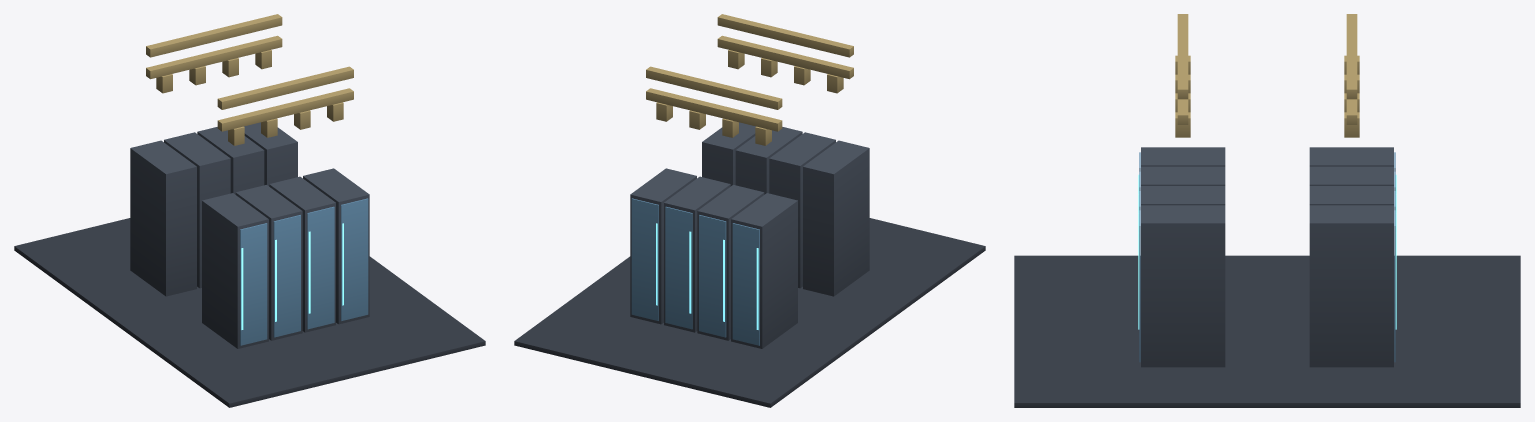
Rendered from dgx-h200.glb.
3 views of the same model, side by side, from view 1: azimuth 30°, elevation 25°; view 2: azimuth 150°, elevation 25°; view 3: azimuth 270°, elevation 25° (orthographic). The views are drawn at different scales.
Parts seen in each view (by area): view 1: floor, rack-B1, rack-A1, rack-A1-door, rack-A3-door, rack-A4-door, rack-A2-door, rack-B2, rack-A3, rack-A2, rack-A4, rack-B3 (+5 smaller); view 2: floor, rack-A1, rack-B1, rack-B1-door, rack-B3-door, rack-B4-door, rack-B2-door, rack-A2, rack-B3, rack-B2, rack-B4, rack-A3 (+5 smaller); view 3: floor, rack-A4, rack-B4, rack-A1, rack-B1, rack-A2, rack-A3, rack-B2, rack-B3, busway-A2, busway-B2.
Part boxes in pixels (left/top/right/bottom): floor: left=14, top=218, right=485, bottom=407; rack-B1: left=130, top=140, right=196, bottom=296; rack-A1: left=202, top=193, right=268, bottom=348; rack-A1-door: left=240, top=223, right=267, bottom=345; rack-A3-door: left=307, top=206, right=334, bottom=329; rack-A4-door: left=341, top=198, right=368, bottom=320; rack-A2-door: left=273, top=215, right=300, bottom=337; rack-B2: left=164, top=132, right=230, bottom=288; rack-A3: left=269, top=176, right=335, bottom=332; rack-A2: left=235, top=185, right=302, bottom=340; rack-A4: left=303, top=168, right=369, bottom=324; rack-B3: left=197, top=127, right=264, bottom=194; floor: left=514, top=218, right=985, bottom=407; rack-A1: left=803, top=140, right=869, bottom=296; rack-B1: left=731, top=193, right=797, bottom=348; rack-B1-door: left=732, top=223, right=759, bottom=345; rack-B3-door: left=665, top=206, right=692, bottom=329; rack-B4-door: left=631, top=198, right=658, bottom=320; rack-B2-door: left=699, top=215, right=726, bottom=337; rack-A2: left=769, top=132, right=835, bottom=288; rack-B3: left=664, top=176, right=730, bottom=332; rack-B2: left=697, top=185, right=764, bottom=340; rack-B4: left=630, top=168, right=696, bottom=324; rack-A3: left=735, top=127, right=802, bottom=194; floor: left=1014, top=255, right=1520, bottom=407; rack-A4: left=1141, top=205, right=1225, bottom=367; rack-B4: left=1309, top=205, right=1393, bottom=367; rack-A1: left=1141, top=147, right=1225, bottom=166; rack-B1: left=1309, top=147, right=1393, bottom=166; rack-A2: left=1141, top=166, right=1225, bottom=185; rack-A3: left=1141, top=186, right=1225, bottom=205; rack-B2: left=1309, top=166, right=1393, bottom=185; rack-B3: left=1309, top=186, right=1393, bottom=205; busway-A2: left=1177, top=14, right=1188, bottom=99; busway-B2: left=1346, top=14, right=1357, bottom=99.
Bounding box in the file's own units: 4.95 × 4.43 × 7.2.
